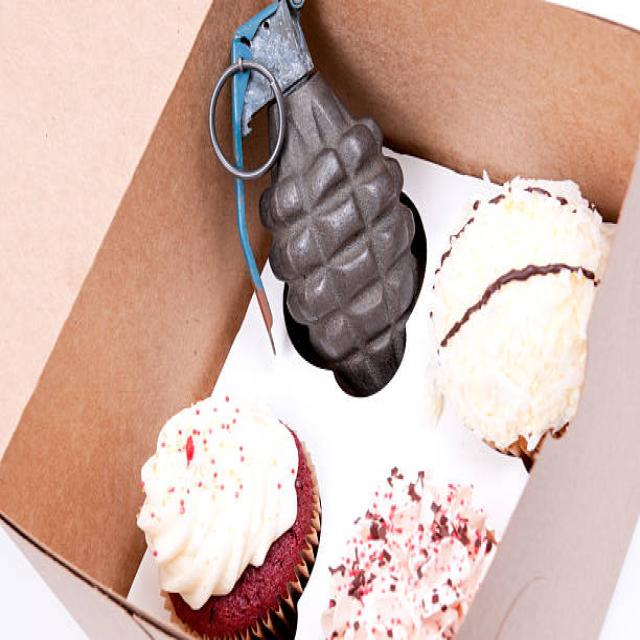grenade: (204, 1, 422, 395)
